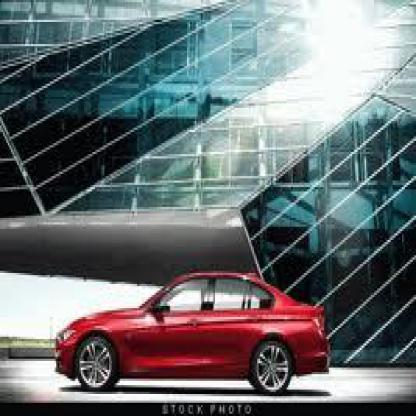Vehicle: (54, 273, 328, 394)
